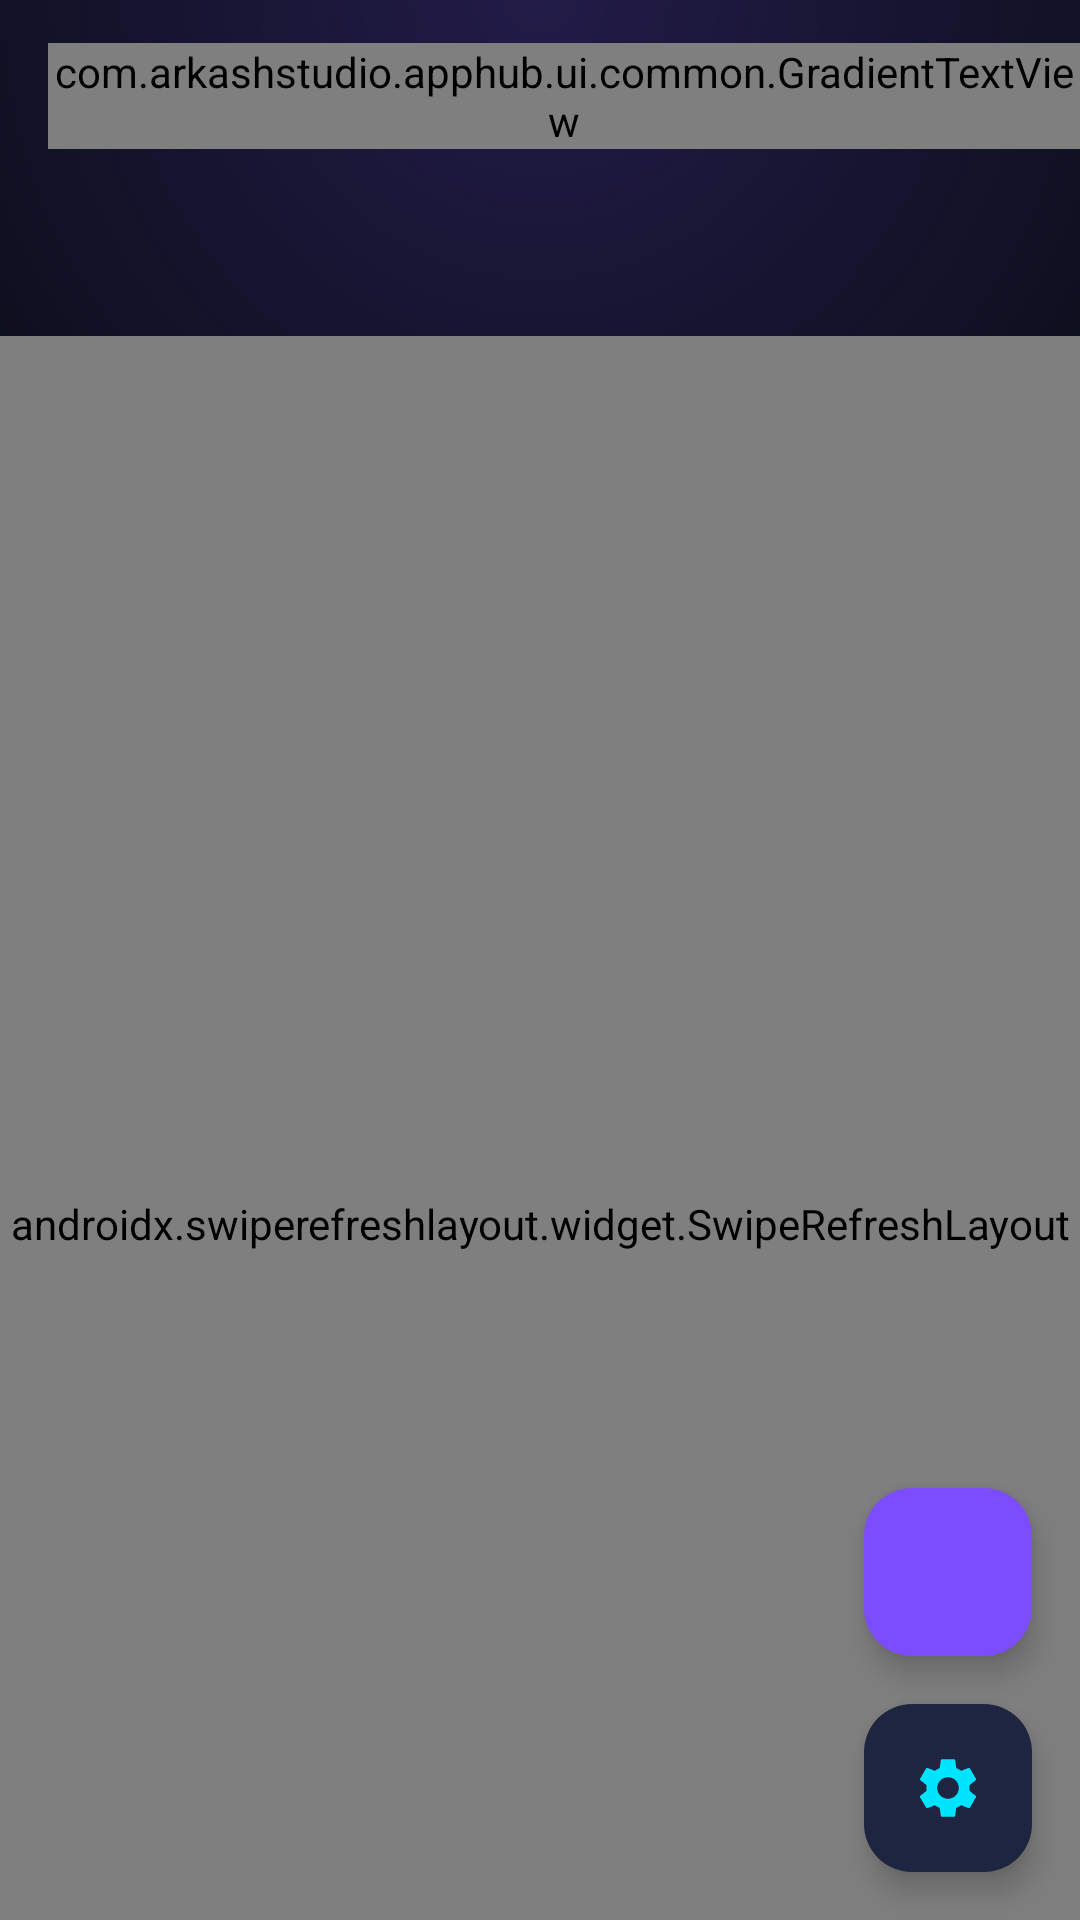

Screen size 1080x1920. Icon name, then its box in pixels as (x1, y1, x2, y2):
Настройки: (864, 1704, 1032, 1872)
